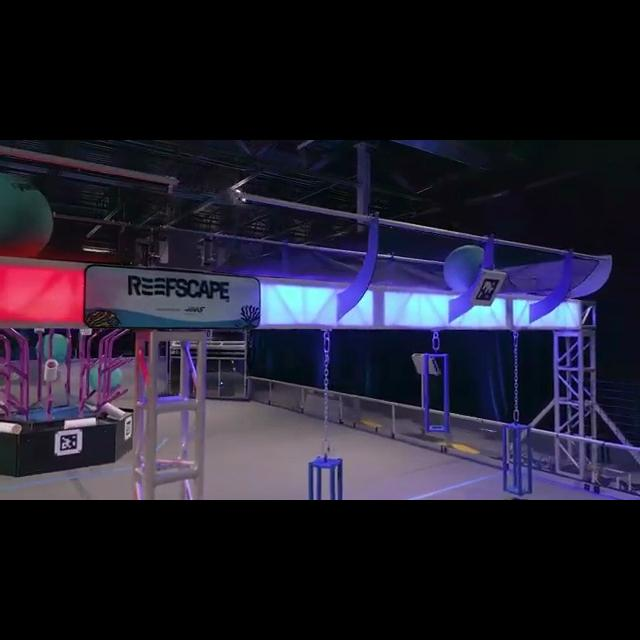ALGAE: (0, 170, 54, 258), (444, 246, 496, 294)
